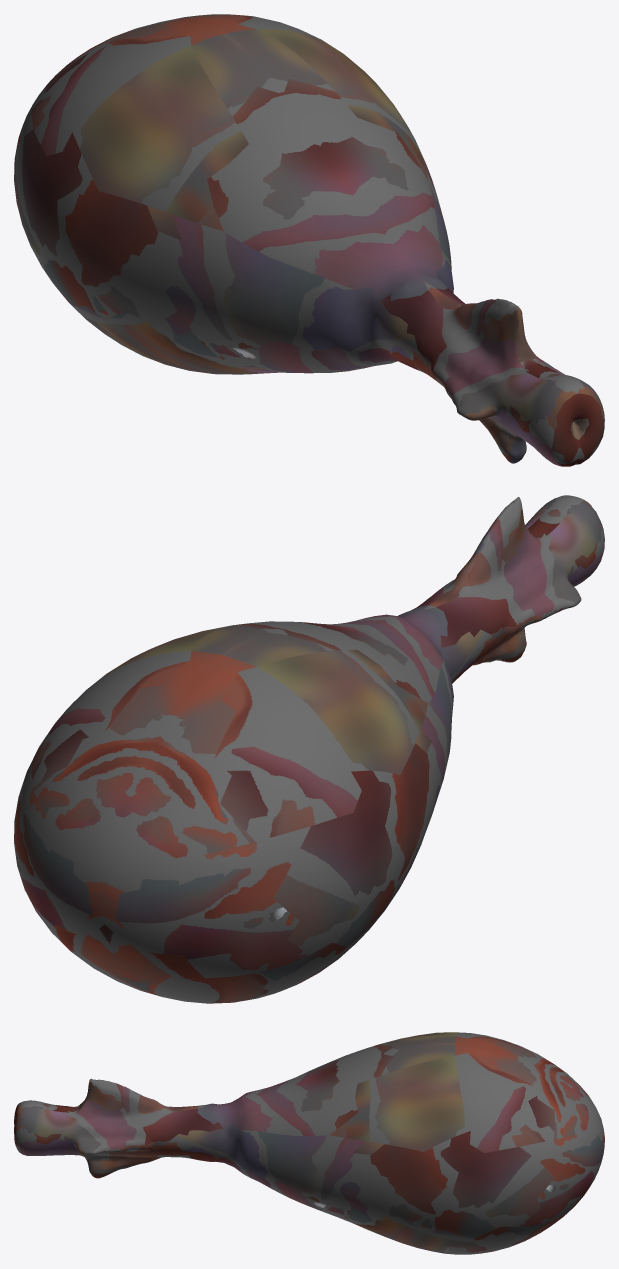
File: missile.obj
The picture shows the model from 3 angles, top to bottom: view 1: azimuth 30°, elevation 25°; view 2: azimuth 150°, elevation 25°; view 3: azimuth 270°, elevation 25°; orthographic projection. The views are drawn at different scales.
Parts seen in each view (by area): view 1: missile; view 2: missile; view 3: missile.
Part boxes in pixels (bbox=[...]): missile: bbox=[14, 14, 604, 466]; missile: bbox=[14, 495, 604, 1003]; missile: bbox=[14, 1032, 604, 1254].
Bounding box in the file's own units: 2.02 × 1.88 × 5.01.
